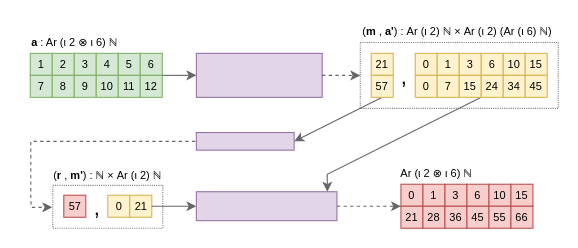
Some shapes in this 578 by 248 pixel diagram are drawn without their labels. The centre of each missing label's shape, as x and y in pixels:
"scan ( ι 2) _+_ 0 m" belongs at [244,140].
"unnest (zipWith (map ∘ _+_) m' a')" belongs at [266,206].
"unzip (map (scan ( ι 6) _+_ 0) (nest a))" belongs at [258,74].
